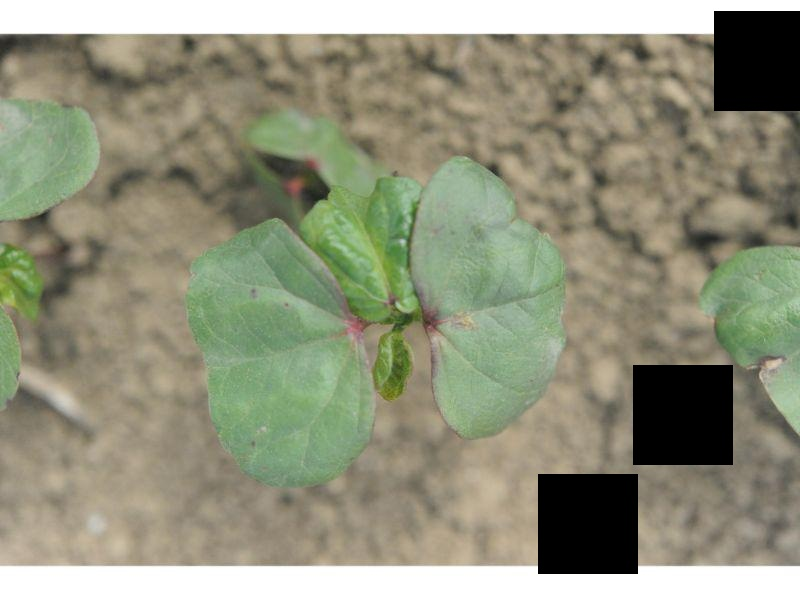cotton: (185, 152, 567, 489)
